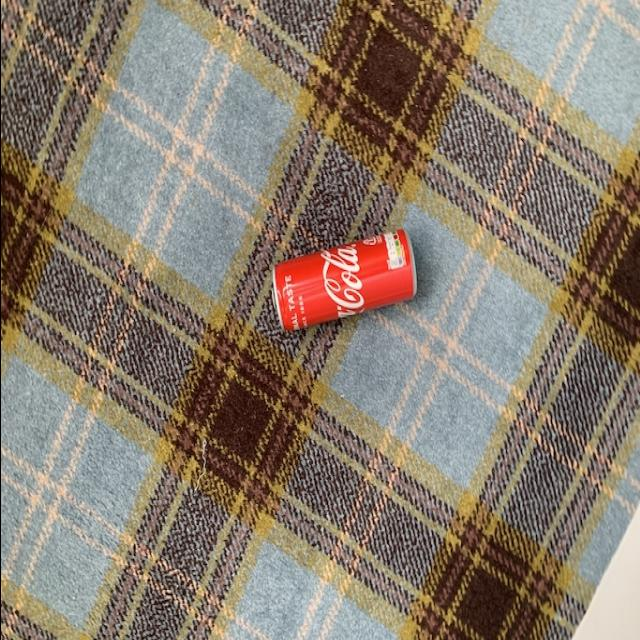litter: (267, 228, 415, 336)
